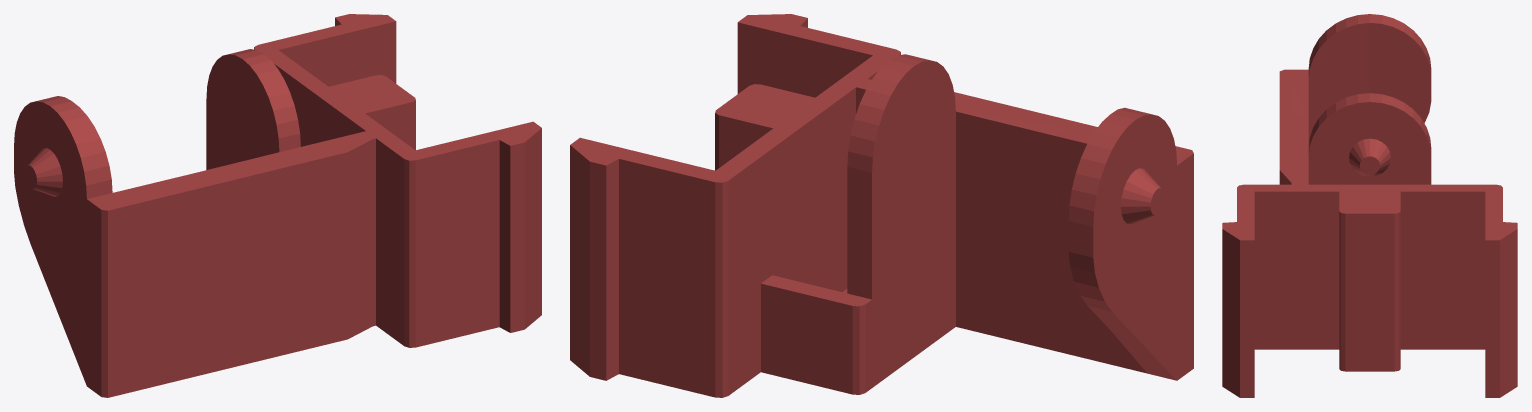
File: cableChain_40MountSide_v2-21.glb
3 views of the same model, side by side, from view 1: azimuth 30°, elevation 25°; view 2: azimuth 150°, elevation 25°; view 3: azimuth 270°, elevation 25° (orthographic). The views are drawn at different scales.
Size of the model in its own units: 41.2 by 23 by 28.86.
